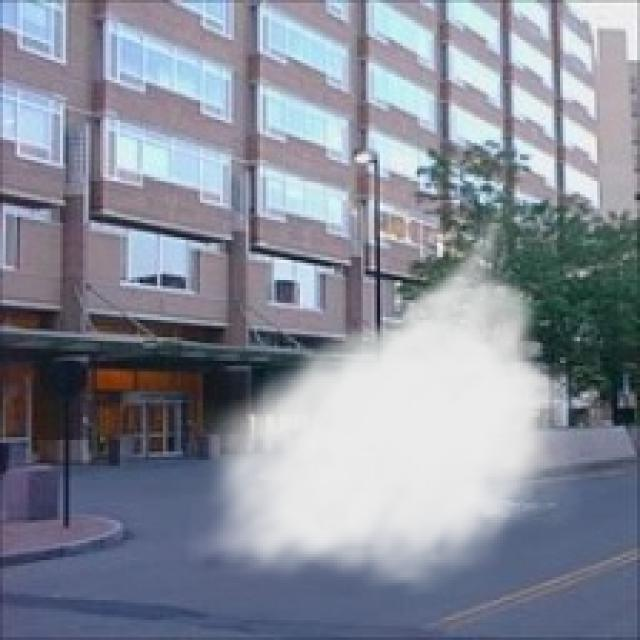Smoke: (185, 200, 586, 597)
